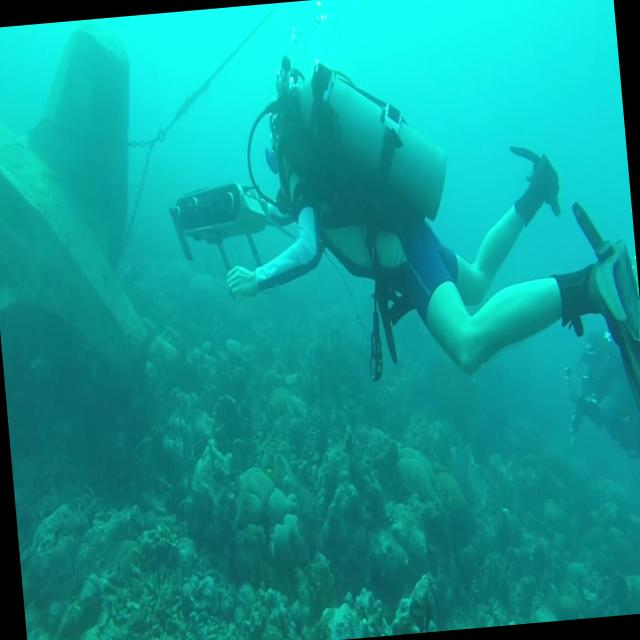human: (204, 25, 640, 400)
